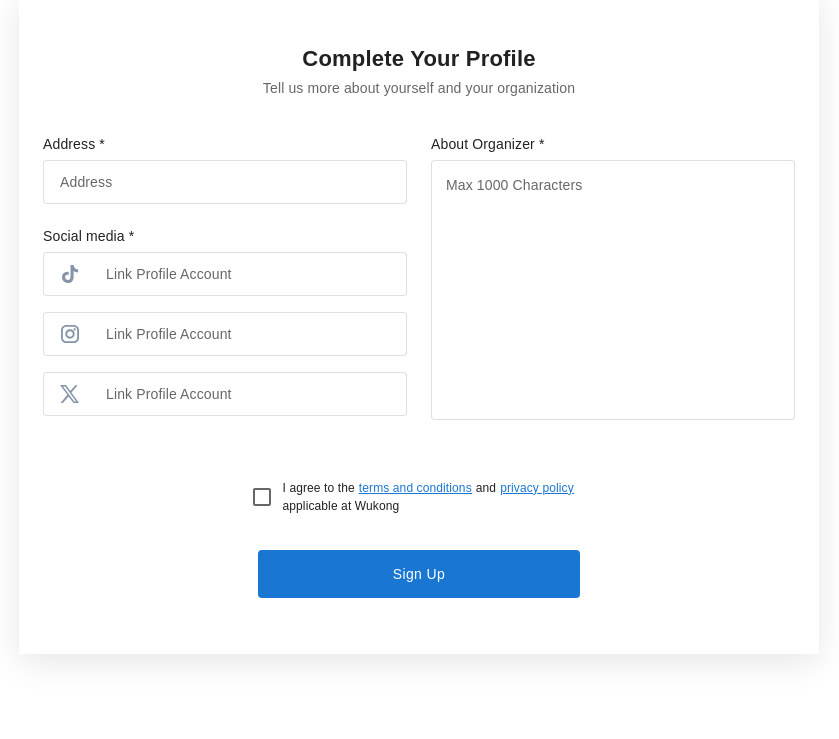
it: RegisterProfileForm › validates required fields
The width and height of the screenshot is (839, 739).
Click the button "Sign Up" at (419, 574), box [258,550,580,598]
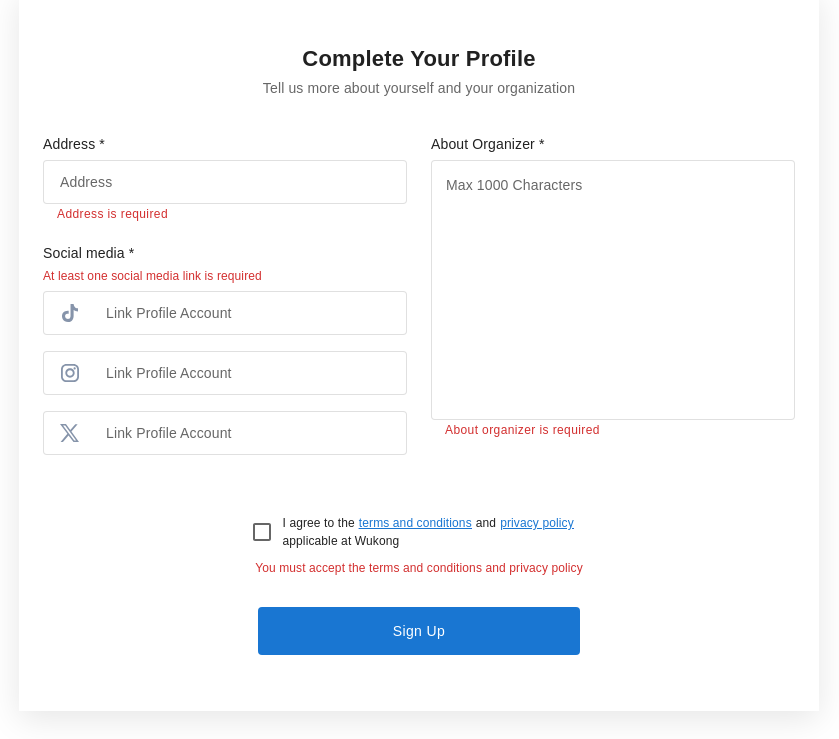
Check: the text "Address is required" is shown, box [57,207,168,221]
Check: the text "About organizer is required" is shown, box [445,423,600,437]
Check: the text "You must accept the terms and conditions and privacy policy" is shown, box [255,561,583,575]
